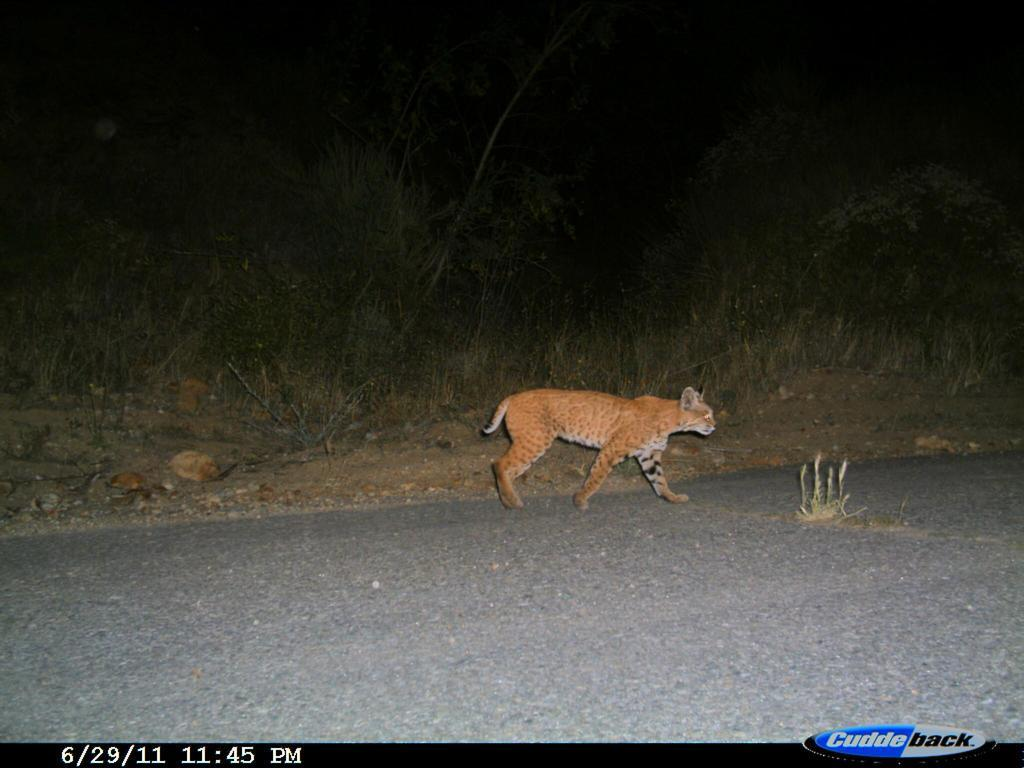bobcat: (481, 385, 720, 514)
